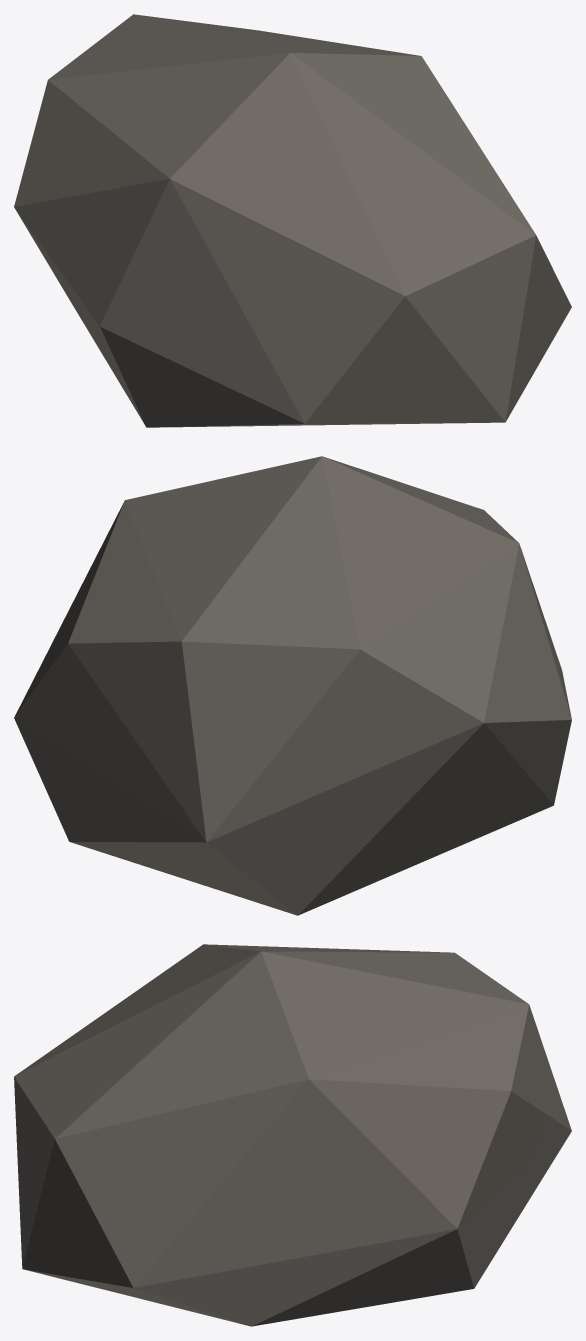
The model's file is roccia.fbx.
The picture shows the model from 3 angles, top to bottom: view 1: azimuth 30°, elevation 25°; view 2: azimuth 150°, elevation 25°; view 3: azimuth 270°, elevation 25°; orthographic projection. The views are drawn at different scales.
Visible parts, largest first — view 1: Roccia; view 2: Roccia; view 3: Roccia.
Part boxes in pixels (<box>): Roccia: <box>14,14,571,427</box>; Roccia: <box>14,456,571,915</box>; Roccia: <box>14,944,571,1326</box>.
Size of the model in its own units: 44.43 by 31.06 by 53.91.
